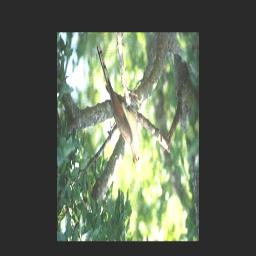Cuckoo: (95, 41, 141, 169)
